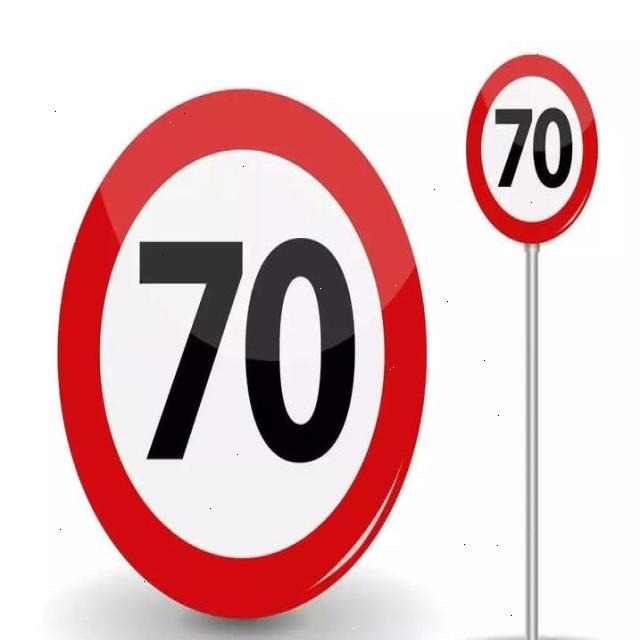speed limit 70: (55, 89, 430, 613), (462, 56, 600, 244)
